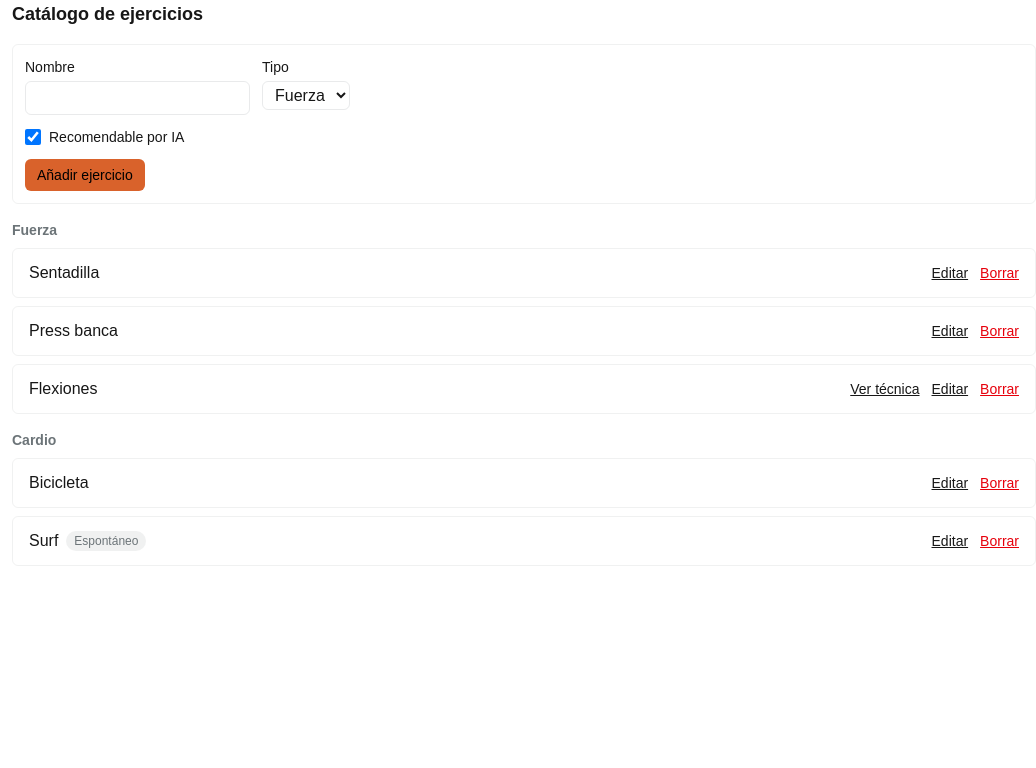
Scenario: ExercisesSection › prellena el checkbox desmarcado al editar un ejercicio espontáneo
Click the button "Editar" in the row of "Espontáneo" at coordinates (950, 541), box [932,531,968,551]
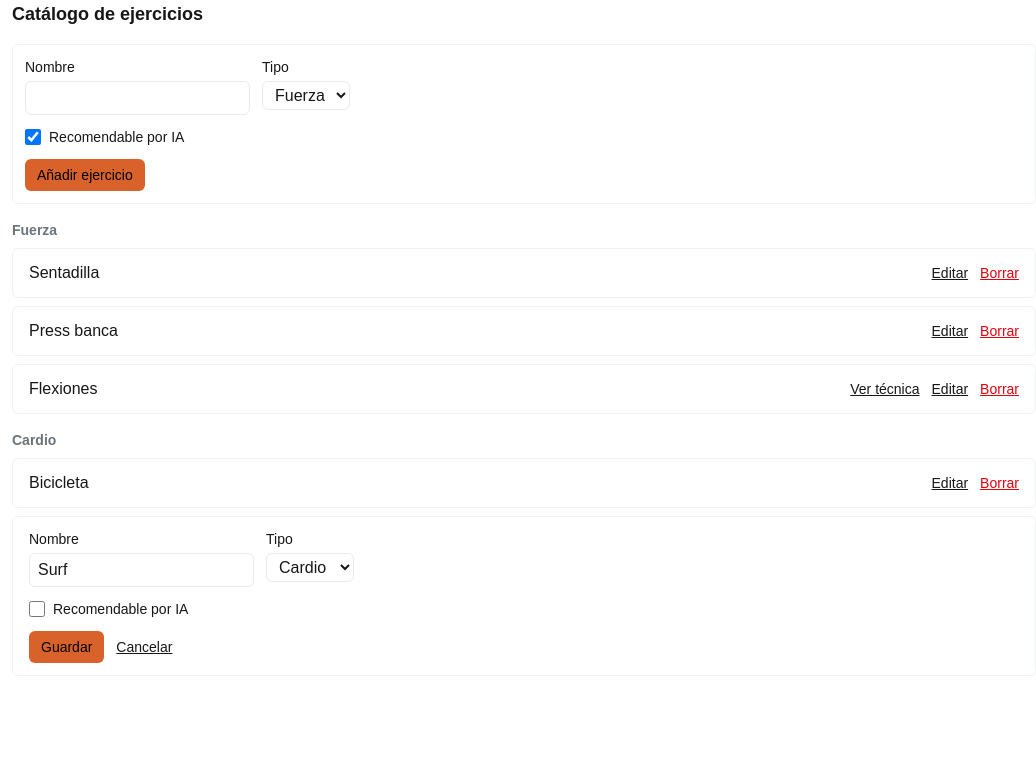
Now the checkbox labelled "Recomendable por IA" below "Bicicleta" is not checked, box [29,601,45,617]
